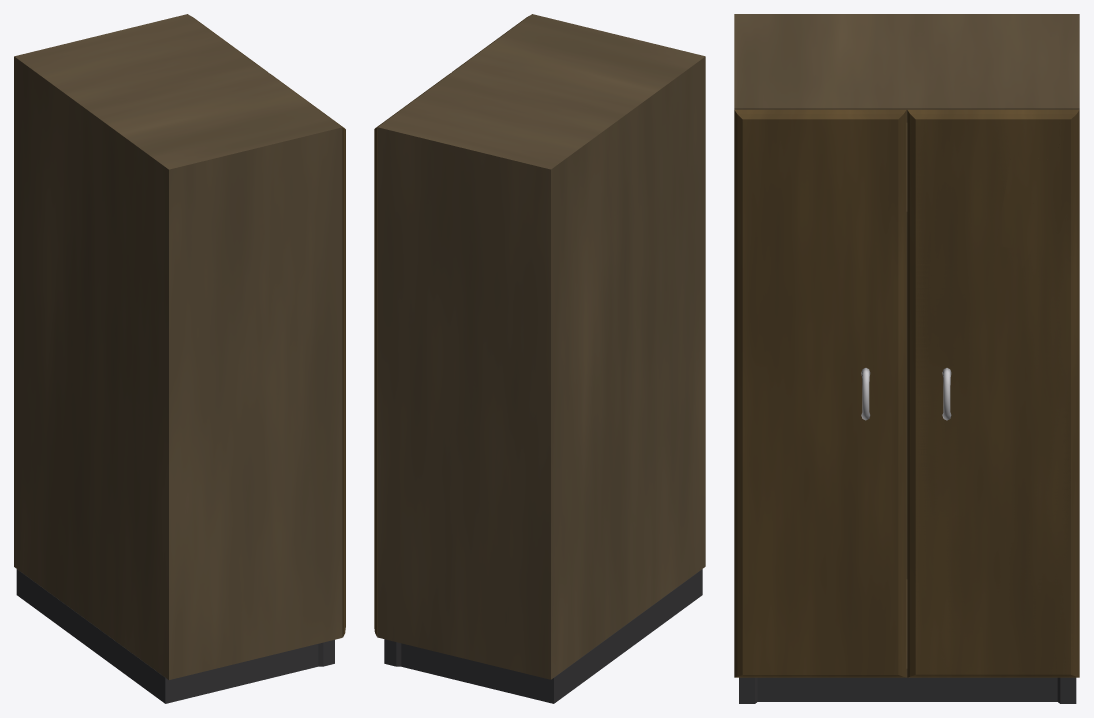
File: Cabinet1.fbx
3 renders of one model, left to right at view 1: azimuth 30°, elevation 25°; view 2: azimuth 150°, elevation 25°; view 3: azimuth 270°, elevation 25°, orthographic. The views are drawn at different scales.
Visible parts, largest first — view 1: Cabinet1, Cabinet1 Base, CabineDoorL; view 2: Cabinet1, Cabinet1 Base, CabinetDoorR.001, CabinetDoorR.001 BRoken; view 3: CabineDoorL, CabinetDoorR.001, CabinetDoorR.001 BRoken, Cabinet1, Cabinet1 Base, Door Shard, Door Shard.001, Door Shard.002, Door Shard.006.
Part boxes in pixels (bbox=[...]): Cabinet1: bbox=[14, 14, 342, 679]; Cabinet1 Base: bbox=[16, 569, 334, 703]; CabineDoorL: bbox=[268, 72, 345, 636]; Cabinet1: bbox=[377, 14, 705, 679]; Cabinet1 Base: bbox=[384, 569, 702, 703]; CabinetDoorR.001: bbox=[374, 128, 377, 631]; CabinetDoorR.001 BRoken: bbox=[374, 73, 450, 636]; CabineDoorL: bbox=[734, 109, 906, 677]; CabinetDoorR.001: bbox=[907, 109, 1079, 677]; CabinetDoorR.001 BRoken: bbox=[907, 109, 1079, 677]; Cabinet1: bbox=[734, 14, 1079, 677]; Cabinet1 Base: bbox=[739, 677, 1076, 703]; Door Shard: bbox=[995, 146, 1013, 247]; Door Shard.001: bbox=[1037, 144, 1059, 252]; Door Shard.002: bbox=[1013, 196, 1034, 267]; Door Shard.006: bbox=[1031, 163, 1049, 237].
Size of the model in its own units: 2.23 by 5.9 by 3.09.
4 materials, 2 textured.
